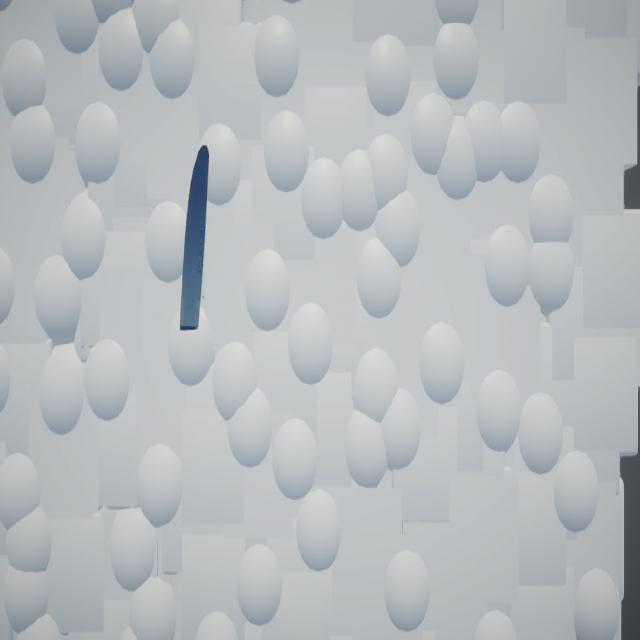top_knife: (181, 146, 210, 332)
